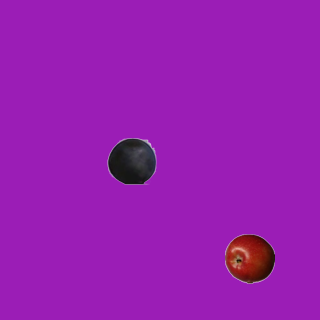Apple Braeburn: (224, 233, 274, 283)
Grape Blue: (106, 135, 156, 185)
